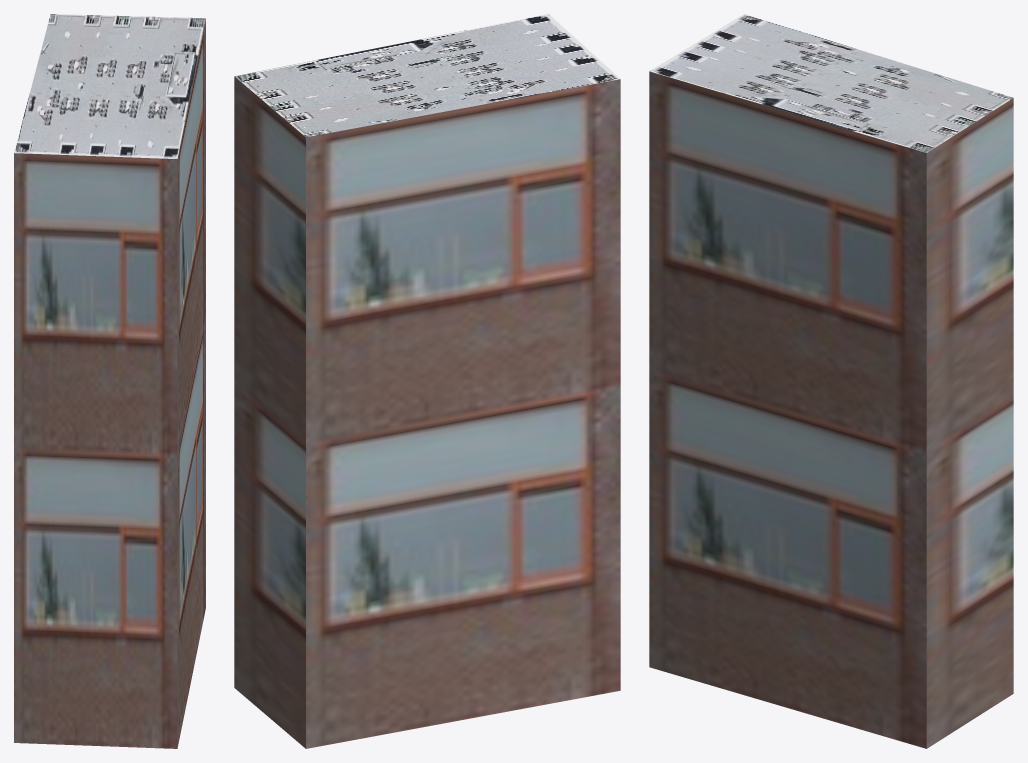
Rendered from ResTex__3361.fbx.
The picture shows the model from 3 angles, left to right: view 1: azimuth 30°, elevation 25°; view 2: azimuth 150°, elevation 25°; view 3: azimuth 270°, elevation 25°; orthographic projection. The views are drawn at different scales.
Parts seen in each view (by area): view 1: CityEngineMaterial_19_m, CityEngineMaterial_15_m; view 2: CityEngineMaterial_19_m, CityEngineMaterial_15_m; view 3: CityEngineMaterial_19_m, CityEngineMaterial_15_m.
Boxes of the visible parts, x1,y1,x2,y2 form: CityEngineMaterial_19_m: (14, 19, 205, 748); CityEngineMaterial_15_m: (14, 14, 205, 158); CityEngineMaterial_19_m: (234, 76, 620, 748); CityEngineMaterial_15_m: (235, 14, 620, 137); CityEngineMaterial_19_m: (649, 71, 1013, 748); CityEngineMaterial_15_m: (649, 14, 1013, 152).
Bounding box in the file's own units: 3 × 6 × 3.33.
2 materials, 2 textured.
